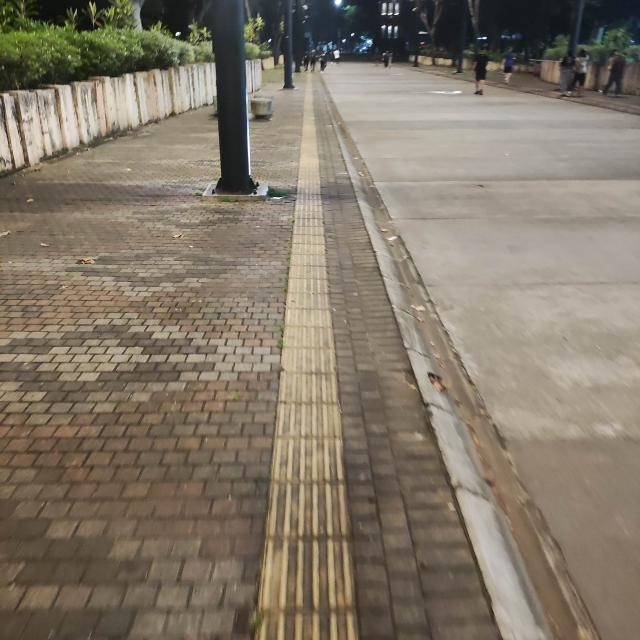lurus: (264, 120, 364, 640)
